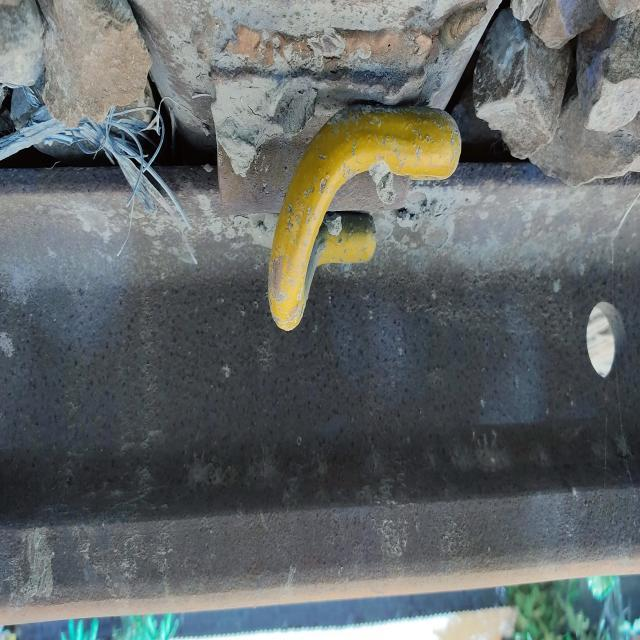Good Fasteners: (195, 6, 473, 329)
